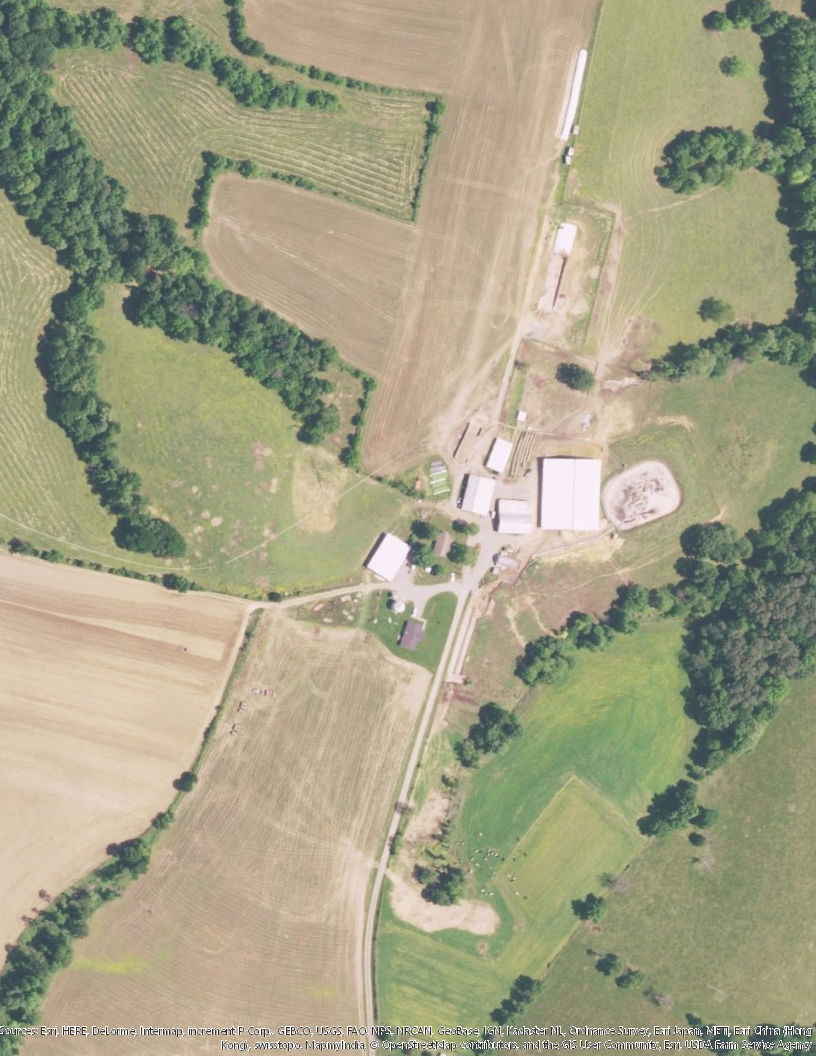cafo: (537, 452, 607, 537), (363, 531, 413, 580), (458, 471, 500, 516), (495, 502, 533, 537), (487, 438, 517, 475)
